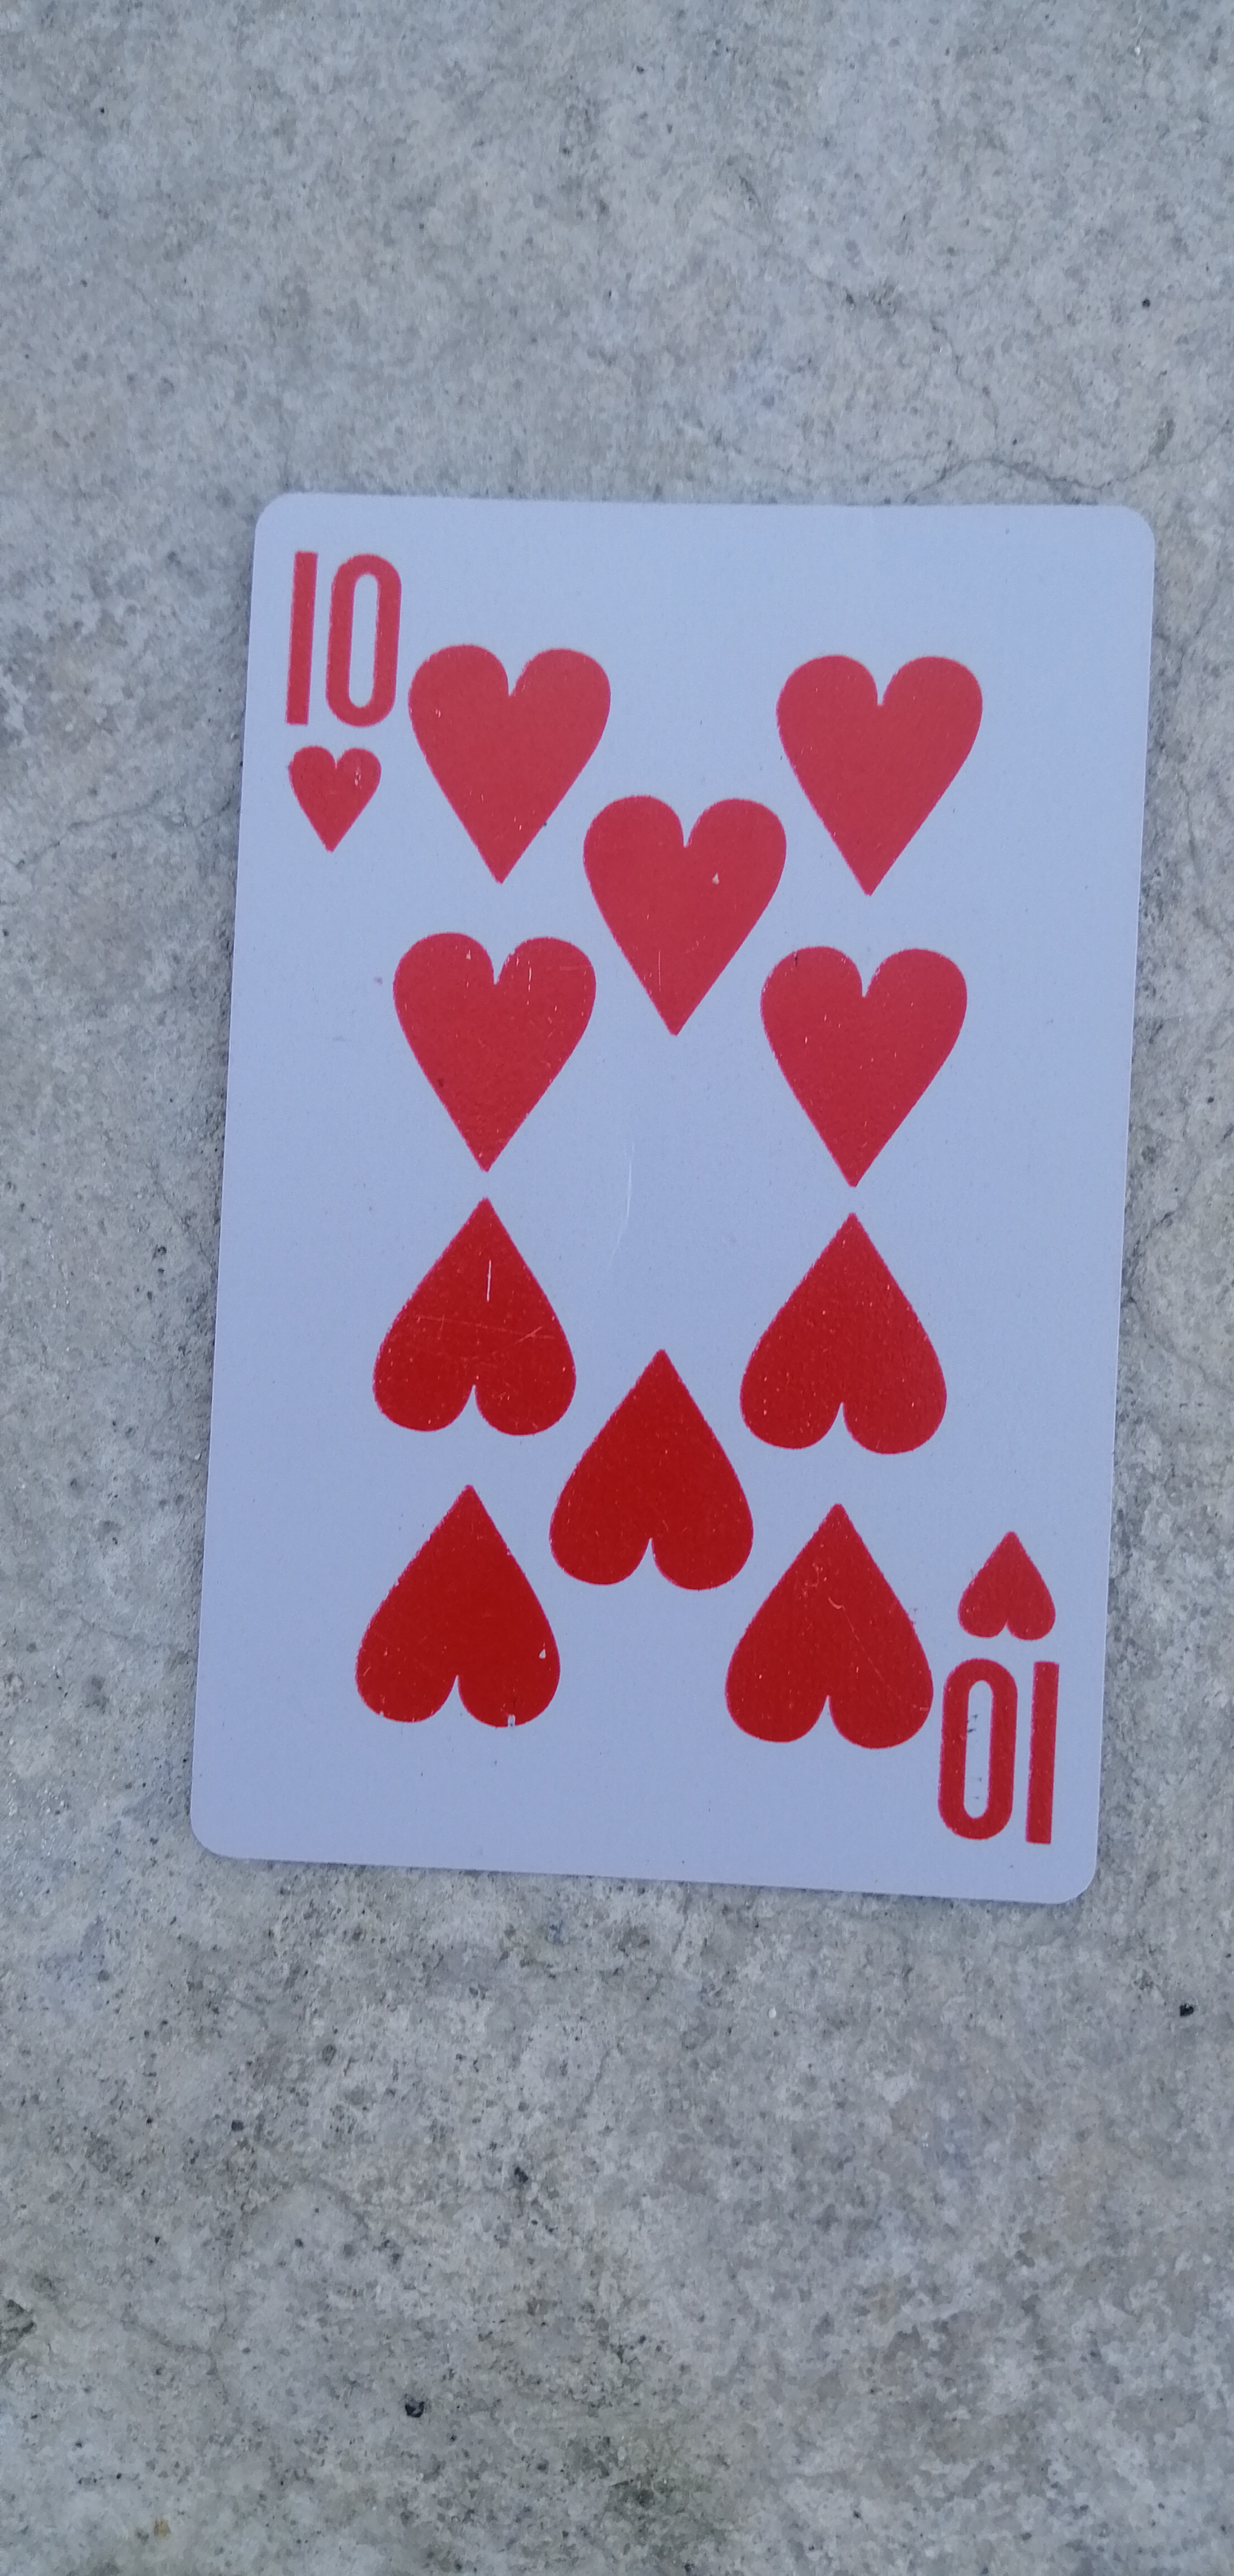ten: (202, 468, 1114, 1917)
